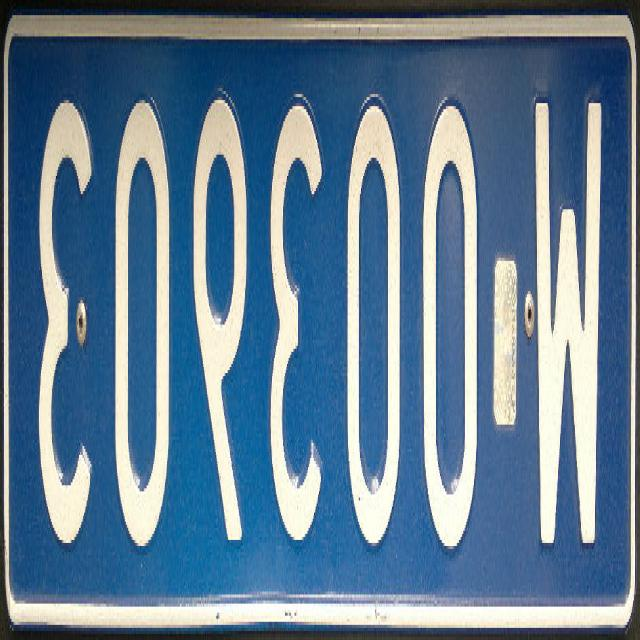pl_license_plate: (6, 18, 634, 613)
